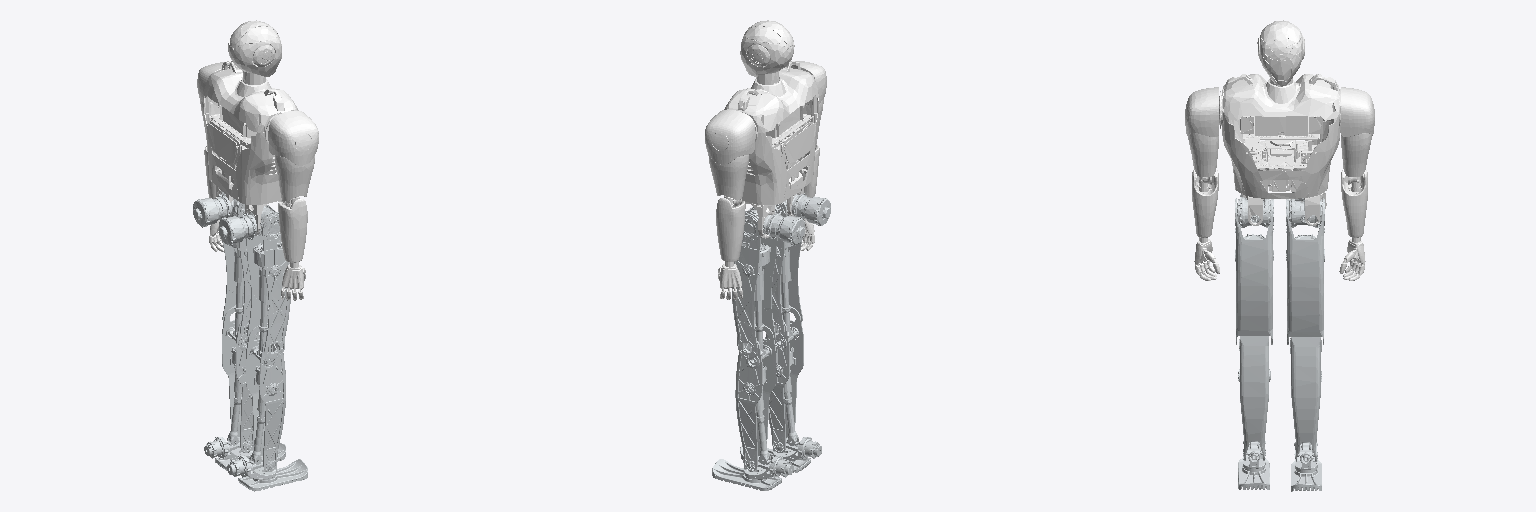
The robot description file, URDF, robot "jump_robot_qhx":
<?xml version="1.0" encoding="utf-8"?>
<!-- This URDF was automatically created by SolidWorks to URDF Exporter! Originally created by [author] ([email redacted]) 
     Commit Version: 1.6.0-1-g15f4949  Build Version: 1.6.7594.29634
     For more information, please see http://wiki.ros.org/sw_urdf_exporter -->
<robot
  name="jump_robot_qhx">
  <link name="trunk">
    <inertial>
      <origin
        xyz="-0.002531 -0.0059537 0.089042"
        rpy="0 0 0" />
      <mass
        value="20.9913292790793" />
      <inertia
        ixx="0.124208103347896"
        ixy="-9.59187941607576E-05"
        ixz="0.000364518209294849"
        iyy="0.0514747095206283"
        iyz="-1.571792289308E-05"
        izz="0.126836649722406" />
    </inertial>
    <visual>
      <origin
        xyz="0 0 0"
        rpy="0 0 0" />
      <geometry>
        <mesh
          filename="../meshes/trunk.STL" />
      </geometry>
      <material
        name="">
        <color
          rgba="1 1 1 1" />
      </material>
    </visual>
    <collision>
      <origin rpy="0 0 0" xyz="0. 0. 0."/>
      <geometry>
        <sphere radius="0.25"/>
      </geometry>
    </collision>
  </link>
  <link name="arm_left">
    <inertial>
      <origin
        xyz="0.171298707641061 0.000442727912780294 0.00603781286262239"
        rpy="0 0 0" />
      <mass
        value="1.52221608379121" />
      <inertia
        ixx="0.00234673874300324"
        ixy="-3.97823539265063E-05"
        ixz="9.20796492830591E-05"
        iyy="0.00356004819887361"
        iyz="5.94429533538155E-07"
        izz="0.00422659743271191" />
    </inertial>
    <visual>
      <origin
        xyz="0 0 0"
        rpy="0 0 0" />
      <geometry>
        <mesh
          filename="../meshes/arm_left.STL" />
      </geometry>
      <material
        name="">
        <color
          rgba="1 1 1 1" />
      </material>
    </visual>
    <!--collision>
      <origin
        xyz="0 0 0"
        rpy="0 0 0" />
      <geometry>
        <mesh
          filename="../meshes/arm_left.STL" />
      </geometry>
    </collision-->
  </link>
  <joint
    name="shoulder_left"
    type="revolute">
    <origin
      xyz="0.0022528 0.253 0.16485"
      rpy="-1.5708 1.5671 3.1416" />
    <parent
      link="trunk" />
    <child
      link="arm_left" />
    <axis
      xyz="0 0 1" />
    <limit
      lower="-0.6981"
      upper="3.14"
      effort="280"
      velocity="23.14" />
  </joint>
  <link name="arm_right">
    <inertial>
      <origin
        xyz="0.170556178695416 0.000375210079987011 -0.00633364062334763"
        rpy="0 0 0" />
      <mass
        value="1.5289942221345" />
      <inertia
        ixx="0.00234262083840885"
        ixy="-3.91982024555757E-05"
        ixz="-9.14879736122876E-05"
        iyy="0.00355935686991188"
        iyz="9.72152961586076E-07"
        izz="0.00422289414668557" />
    </inertial>
    <visual>
      <origin
        xyz="0 0 0"
        rpy="0 0 0" />
      <geometry>
        <mesh
          filename="../meshes/arm_right.STL" />
      </geometry>
      <material
        name="">
        <color
          rgba="1 1 1 1" />
      </material>
    </visual>
    <!--collision>
      <origin
        xyz="0 0 0"
        rpy="0 0 0" />
      <geometry>
        <mesh
          filename="../meshes/arm_right.STL" />
      </geometry>
    </collision-->
  </link>
  <joint
    name="shoulder_right"
    type="revolute">
    <origin
      xyz="0.0022528 -0.26199 0.16485"
      rpy="-1.5708 1.5671 3.1416" />
    <parent
      link="trunk" />
    <child
      link="arm_right" />
    <axis
      xyz="0 0 1" />
    <limit
      lower="-0.6981"
      upper="3.14"
      effort="280"
      velocity="23.14" />
  </joint>
  <link name="hip_left">
    <inertial>
      <origin
        xyz="0.000264789340324034 0.0022780534399255 -0.0517419329764954"
        rpy="0 0 0" />
      <mass
        value="2.77226288578825" />
      <inertia
        ixx="0.00230494842187513"
        ixy="-1.09491921692072E-06"
        ixz="-1.89821584403495E-06"
        iyy="0.00278714725530115"
        iyz="1.49357926969216E-05"
        izz="0.00265411614795581" />
    </inertial>
    <visual>
      <origin
        xyz="0 0 0"
        rpy="0 0 0" />
      <geometry>
        <mesh
          filename="../meshes/hip_left.STL" />
      </geometry>
      <material
        name="">
        <color
          rgba="0.898039215686275 0.917647058823529 0.929411764705882 1" />
      </material>
    </visual>
    <!--collision>
      <origin
        xyz="0 0 0"
        rpy="0 0 0" />
      <geometry>
        <mesh
          filename="../meshes/hip_left.STL" />
      </geometry>
    </collision-->
  </link>
  <joint
    name="hip_x_left"
    type="revolute">
    <origin
      xyz="-0.010946 0.083004 -0.223"
      rpy="0 1.565 0" />
    <parent
      link="trunk" />
    <child
      link="hip_left" />
    <axis
      xyz="0 0 1" />
    <limit
      lower="-0.1745"
      upper="0.1745"
      effort="280"
      velocity="23.14" />
  </joint>
  <link name="thigh_left">
    <inertial>
      <origin
        xyz="0.204287897160973 0.0124777472765908 0.000500837368540882"
        rpy="0 0 0" />
      <mass
        value="2.24457303787033" />
      <inertia
        ixx="0.00442080407973017"
        ixy="-0.000245782569422698"
        ixz="4.50972349332155E-05"
        iyy="0.0213102863059659"
        iyz="3.30972534771016E-06"
        izz="0.0200095245878174" />
    </inertial>
    <visual>
      <origin
        xyz="0 0 0"
        rpy="0 0 0" />
      <geometry>
        <mesh
          filename="../meshes/thigh_left.STL" />
      </geometry>
      <material
        name="">
        <color
          rgba="0.898039215686275 0.917647058823529 0.929411764705882 1" />
      </material>
    </visual>
    <!--collision>
      <origin
        xyz="0 0 0"
        rpy="0 0 0" />
      <geometry>
        <mesh
          filename="../meshes/thigh_left.STL" />
      </geometry>
    </collision-->
  </link>
  <joint
    name="hip_y_left"
    type="revolute">
    <origin
      xyz="0 0 0"
      rpy="1.5708 0 0" />
    <parent
      link="hip_left" />
    <child
      link="thigh_left" />
    <axis
      xyz="0 0 1" />
    <limit
      lower="-0.5235"
      upper="1.7453"
      effort="280"
      velocity="23.14" />
  </joint>
  <link name="calf_left">
    <inertial>
      <origin
        xyz="0.181032783526921 0.00565154355776892 -0.000982461833743953"
        rpy="0 0 0" />
      <mass
        value="1.75714584456127" />
      <inertia
        ixx="0.00244024177618532"
        ixy="4.65980519825088E-05"
        ixz="4.3757807711868E-06"
        iyy="0.0176434834993722"
        iyz="6.29874205032996E-07"
        izz="0.0171561337463444" />
    </inertial>
    <visual>
      <origin
        xyz="0 0 0"
        rpy="0 0 0" />
      <geometry>
        <mesh
          filename="../meshes/calf_left.STL" />
      </geometry>
      <material
        name="">
        <color
          rgba="0.898039215686275 0.917647058823529 0.929411764705882 1" />
      </material>
    </visual>
    <!--collision>
      <origin
        xyz="0 0 0"
        rpy="0 0 0" />
      <geometry>
        <mesh
          filename="../meshes/calf_left.STL" />
      </geometry>
    </collision-->
  </link>
  <joint
    name="knee_left"
    type="revolute">
    <origin
      xyz="0.45 0 0"
      rpy="0 0.0022222 0.0011465" />
    <parent
      link="thigh_left" />
    <child
      link="calf_left" />
    <axis
      xyz="0 0 1" />
    <limit
      lower="-2.0943"
      upper="0.1745"
      effort="280"
      velocity="23.14" />
  </joint>
  <link name="ankle_left">
    <inertial>
      <origin
        xyz="-0.000291440779461756 -0.0684593321296307 -0.000437809242085849"
        rpy="0 0 0" />
      <mass
        value="0.426454573230445" />
      <inertia
        ixx="0.000255094327728725"
        ixy="-1.25868931748423E-06"
        ixz="-2.10382440379478E-07"
        iyy="0.000154854283488368"
        iyz="1.04672180226572E-07"
        izz="0.000252474733936312" />
    </inertial>
    <visual>
      <origin
        xyz="0 0 0"
        rpy="0 0 0" />
      <geometry>
        <mesh
          filename="../meshes/ankle_left.STL" />
      </geometry>
      <material
        name="">
        <color
          rgba="0.898039215686275 0.917647058823529 0.929411764705882 1" />
      </material>
    </visual>
    <!--collision>
      <origin
        xyz="0 0 0"
        rpy="0 0 0" />
      <geometry>
        <mesh
          filename="../meshes/ankle_left.STL" />
      </geometry>
    </collision-->
  </link>
  <joint
    name="ankle_y_left"
    type="revolute">
    <origin
      xyz="0.45 0 0"
      rpy="0 0 -2.4552E-05" />
    <parent
      link="calf_left" />
    <child
      link="ankle_left" />
    <axis
      xyz="0 0 1" />
    <limit
      lower="-0.8726"
      upper="0.9948"
      effort="280"
      velocity="23.14" />
  </joint>
  <link name="foot_left">
    <inertial>
      <origin
        xyz="0.0590531832316799 -0.000380314981998697 0.0199411907634456"
        rpy="0 0 0" />
      <mass
        value="1.17881865429034" />
      <inertia
        ixx="0.00491833296516079"
        ixy="-4.29169528436321E-06"
        ixz="4.81264608096593E-05"
        iyy="0.00417461362283326"
        iyz="4.80973862828783E-05"
        izz="0.000947864307528784" />
    </inertial>
    <visual>
      <origin
        xyz="0 0 0"
        rpy="0 0 0" />
      <geometry>
        <mesh
          filename="../meshes/foot_left.STL" />
      </geometry>
      <material
        name="">
        <color
          rgba="0.898039215686275 0.917647058823529 0.929411764705882 1" />
      </material>
    </visual>
    <collision>
      <origin
        xyz="0 0 0"
        rpy="0 0 0" />
      <geometry>
        <!-- <box size="0.1500000 0.0750000 0.01000000" /> -->
        <mesh filename="../meshes/foot_left.STL"/>
      </geometry>
    </collision>
  </link>
  <joint
    name="ankle_x_left"
    type="revolute">
    <origin
      xyz="0 0 0"
      rpy="-1.5708 0.018109 0" />
    <parent
      link="ankle_left" />
    <child
      link="foot_left" />
    <axis
      xyz="0 0 1" />
    <limit
      lower="-0.6981"
      upper="0.5235"
      effort="280"
      velocity="23.14" />
  </joint>
  <link name="hip_right">
    <inertial>
      <origin
        xyz="-3.77763681047583E-06 -0.0022788213769698 -0.0517485653331722"
        rpy="0 0 0" />
      <mass
        value="2.77194420190747" />
      <inertia
        ixx="0.00230482428849934"
        ixy="-6.70310353065572E-08"
        ixz="-3.70150029360013E-08"
        iyy="0.00278711231133955"
        iyz="-1.49675088110476E-05"
        izz="0.00265407493550081" />
    </inertial>
    <visual>
      <origin
        xyz="0 0 0"
        rpy="0 0 0" />
      <geometry>
        <mesh
          filename="../meshes/hip_right.STL" />
      </geometry>
      <material
        name="">
        <color
          rgba="0.898039215686275 0.917647058823529 0.929411764705882 1" />
      </material>
    </visual>
    <!--collision>
      <origin
        xyz="0 0 0"
        rpy="0 0 0" />
      <geometry>
        <mesh
          filename="../meshes/hip_right.STL" />
      </geometry>
    </collision-->
  </link>
  <joint 
    name="hip_x_right"
    type="revolute">
    <origin
      xyz="-0.010946 -0.091996 -0.223"
      rpy="0 1.5708 0" />
    <parent
      link="trunk" />
    <child
      link="hip_right" />
    <axis
      xyz="0 0 1" />
    <limit
      lower="-0.1745"
      upper="0.1745"
      effort="280"
      velocity="23.14" />
  </joint>
  <link name="thigh_right">
    <inertial>
      <origin
        xyz="0.204159056818807 0.0124821544665048 -0.000563980377692605"
        rpy="0 0 0" />
      <mass
        value="2.24418551888605" />
      <inertia
        ixx="0.00442149882840375"
        ixy="-0.000242061145095149"
        ixz="-3.25583828989521E-05"
        iyy="0.0213372609961473"
        iyz="-1.16736435452894E-06"
        izz="0.02003601312423" />
    </inertial>
    <visual>
      <origin
        xyz="0 0 0"
        rpy="0 0 0" />
      <geometry>
        <mesh
          filename="../meshes/thigh_right.STL" />
      </geometry>
      <material
        name="">
        <color
          rgba="0.898039215686275 0.917647058823529 0.929411764705882 1" />
      </material>
    </visual>
    <!--collision>
      <origin
        xyz="0 0 0"
        rpy="0 0 0" />
      <geometry>
        <mesh
          filename="../meshes/thigh_right.STL" />
      </geometry>
    </collision-->
  </link>
  <joint
    name="hip_y_right"
    type="revolute">
    <origin
      xyz="0 0 0"
      rpy="1.5708 0.0053659 0.0022223" />
    <parent
      link="hip_right" />
    <child
      link="thigh_right" />
    <axis
      xyz="0 0 1" />
    <limit
      lower="-0.5235"
      upper="1.7453"
      effort="280"
      velocity="23.14" />
  </joint>
  <link name="calf_right">
    <inertial>
      <origin
        xyz="0.182607647628176 0.00618307415812686 0.000139878399133167"
        rpy="0 0 0" />
      <mass
        value="1.77439209281503" />
      <inertia
        ixx="0.0024374812318937"
        ixy="1.28737896073566E-05"
        ixz="-1.9935042795855E-06"
        iyy="0.0176413056387629"
        iyz="-1.02204152230495E-06"
        izz="0.0171504340007012" />
    </inertial>
    <visual>
      <origin
        xyz="0 0 0"
        rpy="0 0 0" />
      <geometry>
        <mesh
          filename="../meshes/calf_right.STL" />
      </geometry>
      <material
        name="">
        <color
          rgba="0.898039215686275 0.917647058823529 0.929411764705882 1" />
      </material>
    </visual>
    <!--collision>
      <origin
        xyz="0 0 0"
        rpy="0 0 0" />
      <geometry>
        <mesh
          filename="../meshes/calf_right.STL" />
      </geometry>
    </collision-->
  </link>
  <joint
    name="knee_right"
    type="revolute">
    <origin
      xyz="0.45 0 0"
      rpy="0 -0.0022222 -0.0010806" />
    <parent
      link="thigh_right" />
    <child
      link="calf_right" />
    <axis
      xyz="0 0 1" />
    <limit
      lower="-2.0943"
      upper="0.1745"
      effort="280"
      velocity="23.14" />
  </joint>
  <link name="ankle_right">
    <inertial>
      <origin
        xyz="-0.000291429066066343 -0.0684593541528584 0.000437807503005816"
        rpy="0 0 0" />
      <mass
        value="0.426454169497049" />
      <inertia
        ixx="0.000255093687238287"
        ixy="-1.25880429153223E-06"
        ixz="2.10266881314114E-07"
        iyy="0.000154854161809243"
        iyz="-1.04747366225109E-07"
        izz="0.000252474141004131" />
    </inertial>
    <visual>
      <origin
        xyz="0 0 0"
        rpy="0 0 0" />
      <geometry>
        <mesh
          filename="../meshes/ankle_right.STL" />
      </geometry>
      <material
        name="">
        <color
          rgba="0.898039215686275 0.917647058823529 0.929411764705882 1" />
      </material>
    </visual>
    <!--collision>
      <origin
        xyz="0 0 0"
        rpy="0 0 0" />
      <geometry>
        <mesh
          filename="../meshes/ankle_right.STL" />
      </geometry>
    </collision-->
  </link>
  <joint
    name="ankle_y_right"
    type="revolute">
    <origin
      xyz="0.449 0 0"
      rpy="0 0 0.0022026" />
    <parent
      link="calf_right" />
    <child
      link="ankle_right" />
    <axis
      xyz="0 0 1" />
    <limit
      lower="-0.8726"
      upper="0.9948"
      effort="280"
      velocity="23.14" />
  </joint>
  <link name="foot_right">
    <inertial>
      <origin
        xyz="0.0590550454769554 0.000380265171033733 0.0199340670722154"
        rpy="0 0 0" />
      <mass
        value="1.17888308619328" />
      <inertia
        ixx="0.00491831496055339"
        ixy="4.3092452786695E-06"
        ixz="4.80811366493119E-05"
        iyy="0.00417457553264411"
        iyz="-4.8098195438002E-05"
        izz="0.000947871402094289" />
    </inertial>
    <visual>
      <origin
        xyz="0 0 0"
        rpy="0 0 0" />
      <geometry>
        <mesh
          filename="../meshes/foot_right.STL" />
      </geometry>
      <material
        name="">
        <color
          rgba="0.898039215686275 0.917647058823529 0.929411764705882 1" />
      </material>
    </visual>
    <collision>
      <origin
        xyz="0 0 0"
        rpy="0 0 0" />
      <geometry>
        <!-- <box size="0.1500000 0.0750000 0.01000000" /> -->
        <mesh filename="../meshes/foot_right.STL" />
      </geometry>
    </collision>
  </link>
  <joint
    name="ankle_x_right"
    type="revolute">
    <origin
      xyz="0 0 0"
      rpy="-1.5708 -0.022852 0" />
    <parent
      link="ankle_right" />
    <child
      link="foot_right" />
    <axis
      xyz="0 0 1" />
    <limit
      lower="-0.6981"
      upper="0.5235"
      effort="280"
      velocity="23.14" />
  </joint>
</robot>

--- Render facts (derived) ---
The picture shows the robot from 3 angles, left to right: view 1: azimuth 30°, elevation 25°; view 2: azimuth 150°, elevation 25°; view 3: azimuth 270°, elevation 25°; orthographic projection.
Robot: jump_robot_qhx — 13 links, 12 joints (12 revolute); root link trunk; default pose: every joint at zero.
Visible links, largest first — view 1: trunk, arm_right, thigh_right, calf_right, calf_left, thigh_left, hip_right, foot_right, hip_left, arm_left; view 2: trunk, arm_left, thigh_left, calf_left, calf_right, thigh_right, hip_left, foot_left, arm_right, hip_right, foot_right; view 3: trunk, arm_right, arm_left, thigh_left, thigh_right, calf_left, calf_right, foot_right, foot_left, hip_right, hip_left.
Boxes of the visible links, bbox=[...] form: trunk: bbox=[204, 20, 298, 235]; arm_right: bbox=[268, 111, 318, 300]; thigh_right: bbox=[246, 214, 291, 358]; calf_right: bbox=[246, 326, 285, 471]; calf_left: bbox=[222, 307, 259, 452]; thigh_left: bbox=[221, 192, 259, 339]; hip_right: bbox=[219, 205, 280, 245]; foot_right: bbox=[238, 455, 307, 491]; hip_left: bbox=[193, 193, 244, 227]; arm_left: bbox=[197, 62, 236, 251]; trunk: bbox=[724, 20, 818, 238]; arm_left: bbox=[705, 109, 755, 299]; thigh_left: bbox=[732, 207, 777, 358]; calf_left: bbox=[735, 325, 776, 471]; calf_right: bbox=[764, 307, 803, 452]; thigh_right: bbox=[766, 202, 802, 339]; hip_left: bbox=[743, 207, 804, 245]; foot_left: bbox=[712, 455, 781, 490]; arm_right: bbox=[786, 61, 826, 250]; hip_right: bbox=[775, 193, 830, 225]; foot_right: bbox=[740, 437, 810, 472]; trunk: bbox=[1222, 20, 1340, 225]; arm_right: bbox=[1185, 87, 1221, 280]; arm_left: bbox=[1339, 87, 1374, 280]; thigh_left: bbox=[1286, 198, 1324, 344]; thigh_right: bbox=[1235, 198, 1273, 344]; calf_left: bbox=[1290, 337, 1321, 461]; calf_right: bbox=[1238, 336, 1270, 460]; foot_right: bbox=[1238, 441, 1269, 489]; foot_left: bbox=[1291, 442, 1321, 491]; hip_right: bbox=[1235, 194, 1273, 227]; hip_left: bbox=[1286, 192, 1324, 227].
Size in the robot's own frame: 0.3406 by 0.6437 by 1.69 metres.
Meshes: 13 distinct files referenced, 13 mesh visuals loaded (13 binary STL).